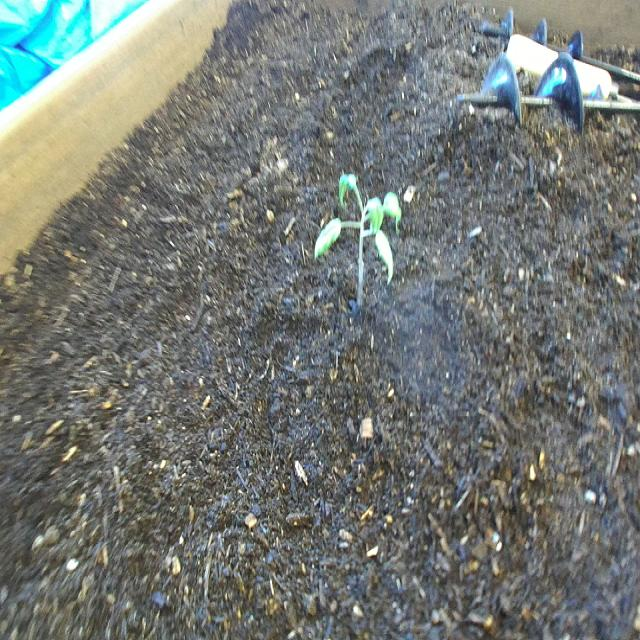Healthy: (311, 168, 405, 319)
